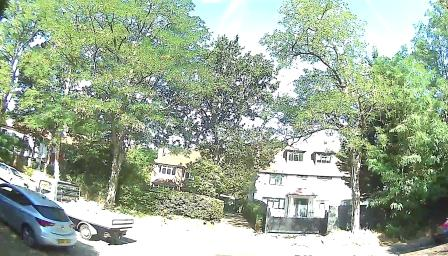Cars: (42, 174, 135, 238), (1, 181, 76, 251), (2, 162, 25, 189)
